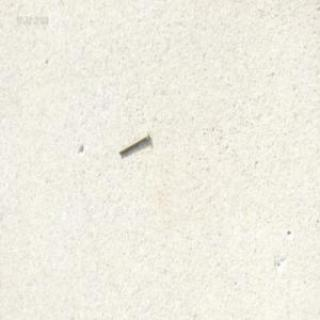Bolttrack_idkeyframe: (117, 130, 149, 154)
